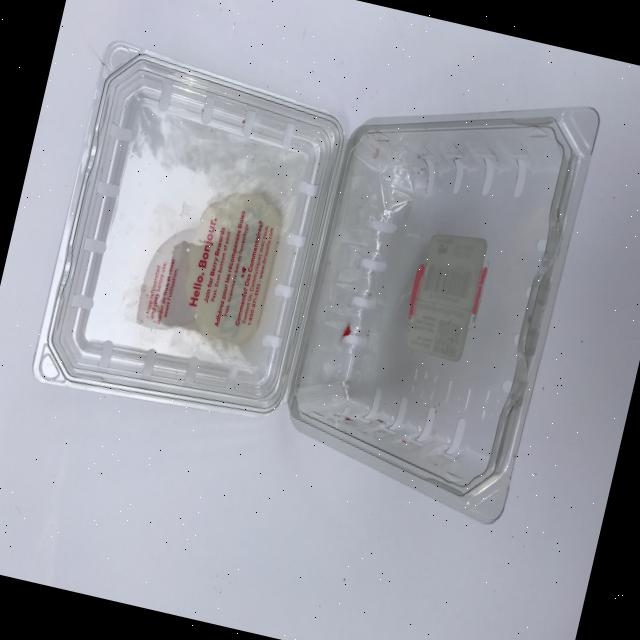plastic: (2, 0, 640, 527)
